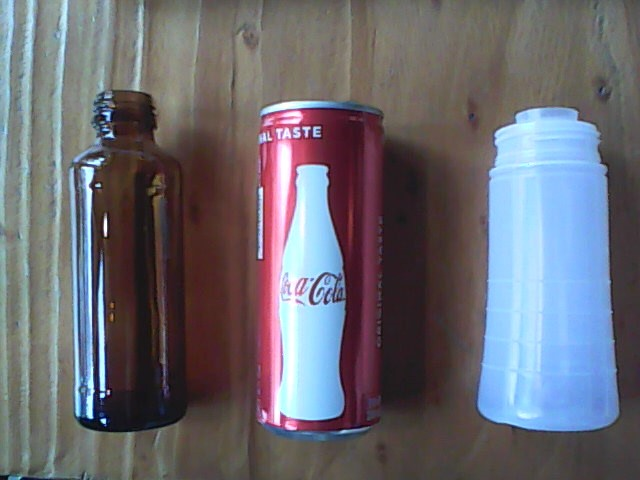Can: (241, 87, 391, 446)
Glass: (62, 81, 194, 438)
Plastic: (467, 93, 625, 439)
